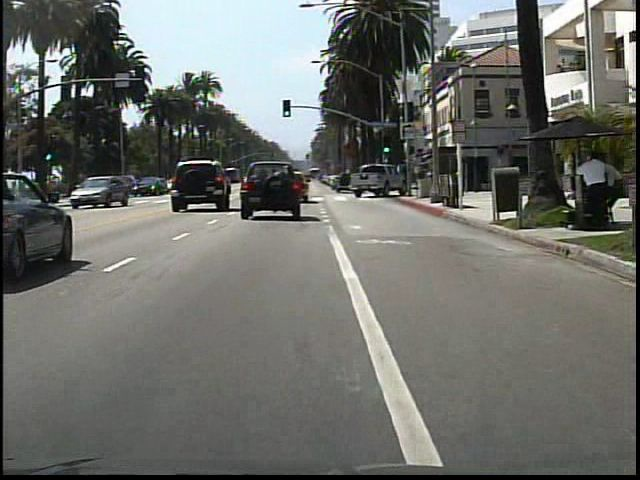person: (569, 147, 604, 233)
